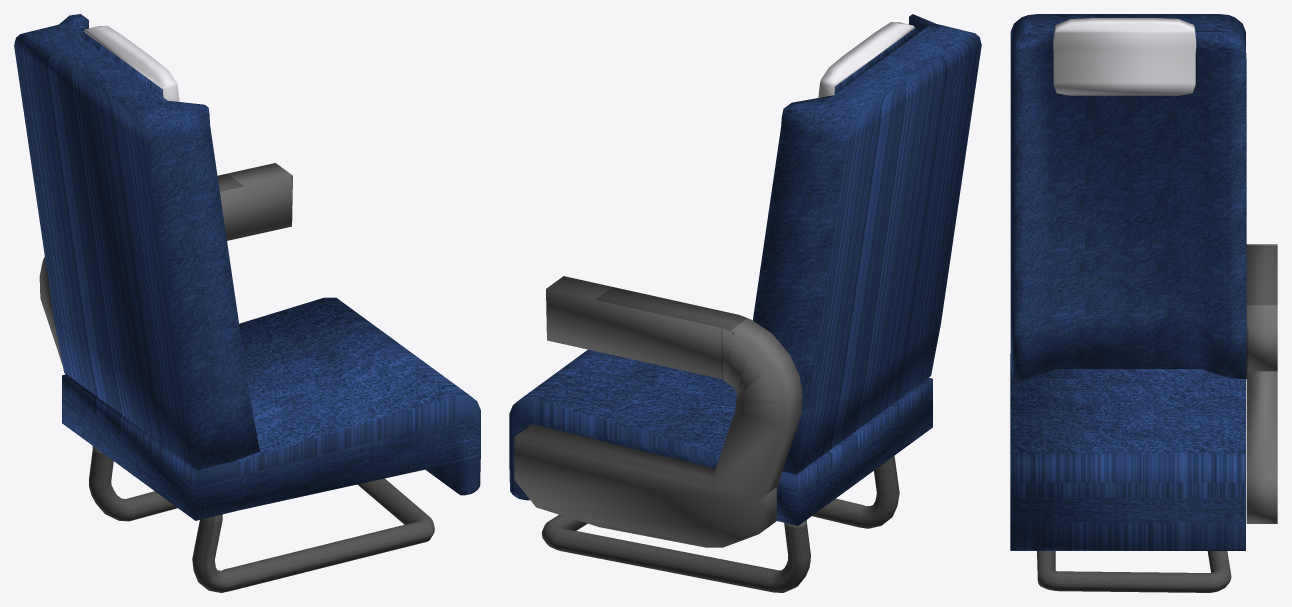
The model's file is A318_Seat.obj.
3 views of the same model, side by side, from view 1: azimuth 30°, elevation 25°; view 2: azimuth 150°, elevation 25°; view 3: azimuth 270°, elevation 25° (orthographic). The views are drawn at different scales.
Visible parts, largest first — view 1: Chair_Cube, Bottom_Cube.001, Armrest_Cube.002, Pillow_Cube.003; view 2: Chair_Cube, Armrest_Cube.002, Bottom_Cube.001, Pillow_Cube.003; view 3: Chair_Cube, Pillow_Cube.003, Armrest_Cube.002, Bottom_Cube.001.
Boxes of the visible parts, x1,y1,x2,y2 form: Chair_Cube: [14, 14, 480, 520]; Bottom_Cube.001: [89, 446, 434, 592]; Armrest_Cube.002: [39, 163, 292, 374]; Pillow_Cube.003: [84, 25, 179, 101]; Chair_Cube: [509, 14, 981, 525]; Armrest_Cube.002: [514, 276, 802, 547]; Bottom_Cube.001: [541, 456, 899, 592]; Pillow_Cube.003: [818, 22, 914, 97]; Chair_Cube: [1010, 14, 1246, 550]; Pillow_Cube.003: [1053, 18, 1196, 95]; Armrest_Cube.002: [1246, 244, 1277, 523]; Bottom_Cube.001: [1037, 551, 1231, 592].
Size of the model in its own units: 6.14 by 9.17 by 4.82.
